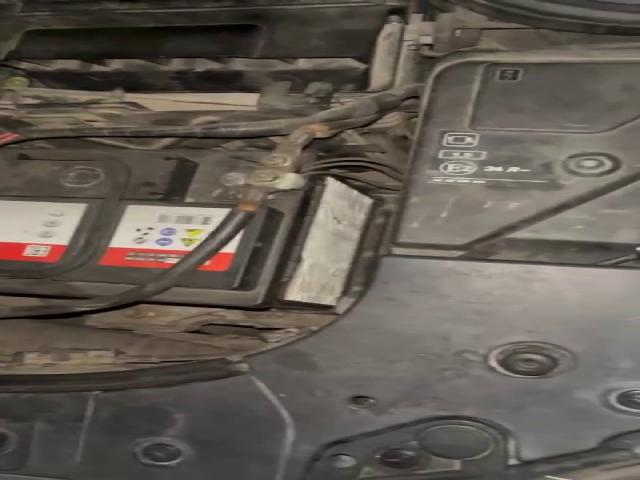accumulator: (2, 146, 380, 310)
fuse_box: (388, 51, 639, 264)
